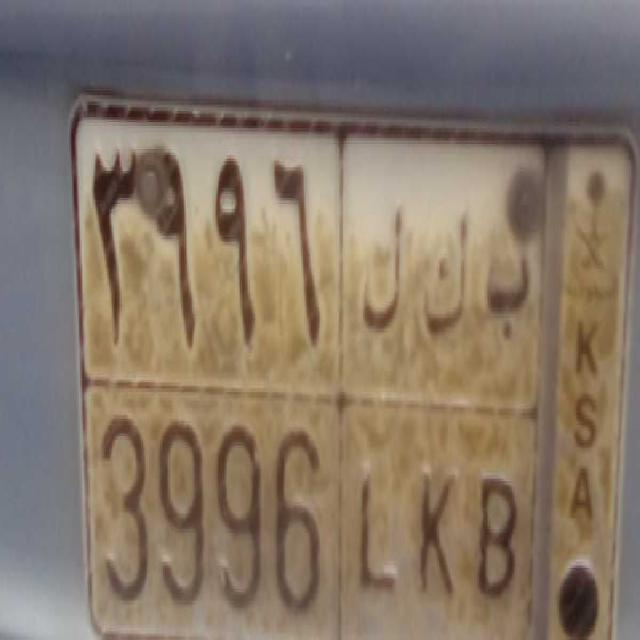license_plate: (82, 382, 532, 640)
